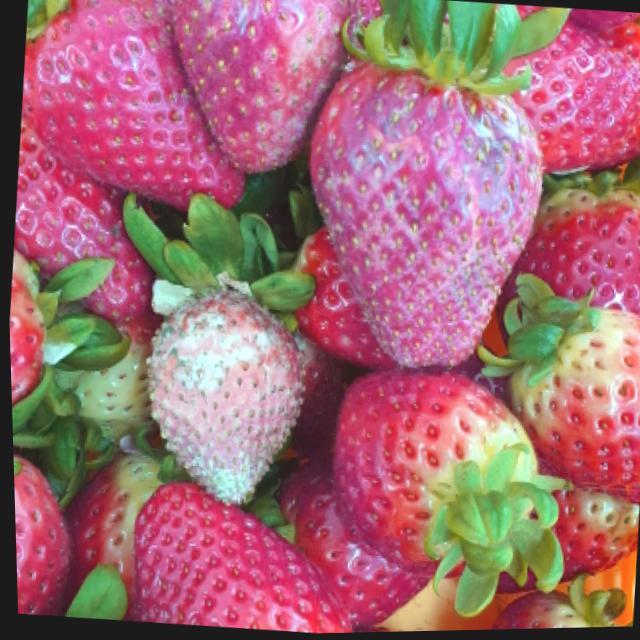Powdery Mildew Fruit: (303, 54, 540, 371), (143, 285, 302, 510), (171, 0, 353, 175)
